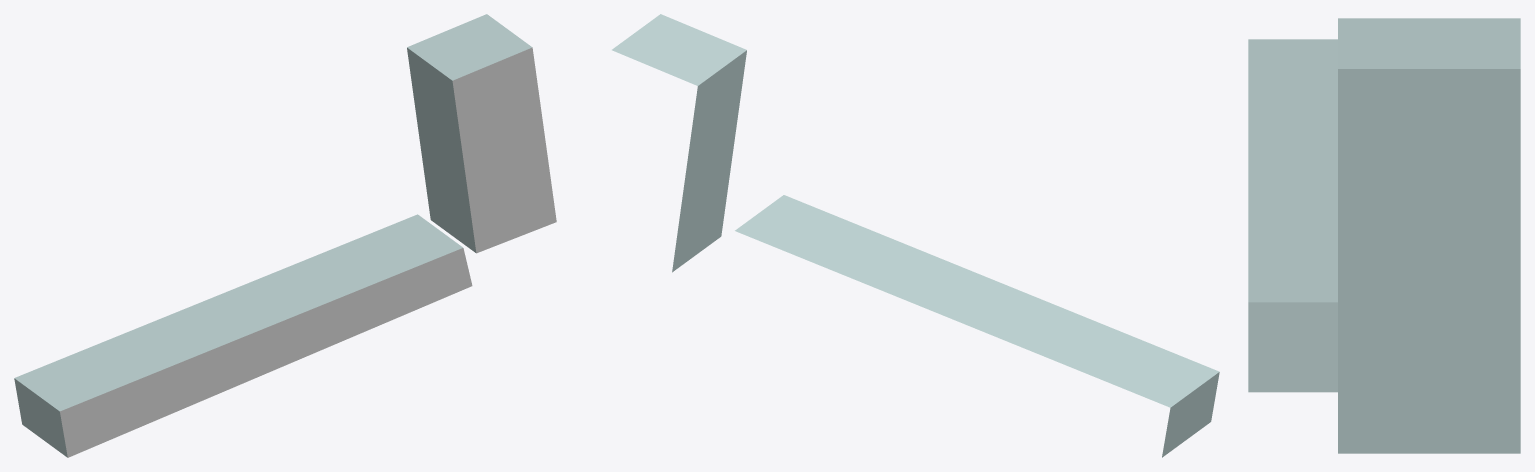
The picture shows the model from 3 angles, left to right: view 1: azimuth 30°, elevation 25°; view 2: azimuth 150°, elevation 25°; view 3: azimuth 270°, elevation 25°; orthographic projection. The views are drawn at different scales.
Visible parts, largest first — view 1: 0_2_1_1_3_0_3_3_3; view 2: 0_2_1_1_3_0_3_3_3; view 3: 0_2_1_1_3_0_3_3_3.
Boxes of the visible parts, <box> form: 0_2_1_1_3_0_3_3_3: <box>14,14,556,457</box>; 0_2_1_1_3_0_3_3_3: <box>612,14,1219,457</box>; 0_2_1_1_3_0_3_3_3: <box>1248,18,1520,453</box>.
Size of the model in its own units: 19.7 by 9.98 by 4.48.
